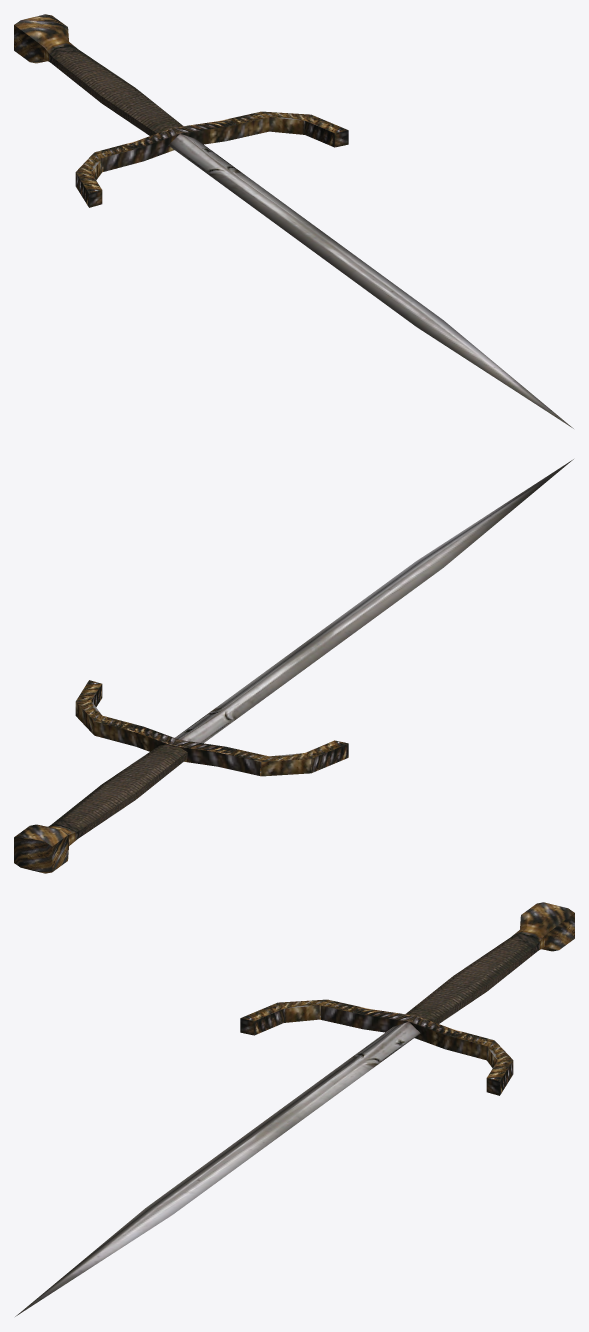
Rendered from parry-dagger-a.fbx.
3 renders of one model, top to bottom at view 1: azimuth 30°, elevation 25°; view 2: azimuth 150°, elevation 25°; view 3: azimuth 330°, elevation 25°, orthographic.
Parts seen in each view (by area): view 1: parry-dagger-a; view 2: parry-dagger-a; view 3: parry-dagger-a.
Boxes of the visible parts, box(x1,y1,x2,y2) form: parry-dagger-a: box(14, 14, 573, 428); parry-dagger-a: box(14, 459, 573, 873); parry-dagger-a: box(15, 902, 574, 1316).
Bounding box in the file's own units: 19 × 2.22 × 68.67.
